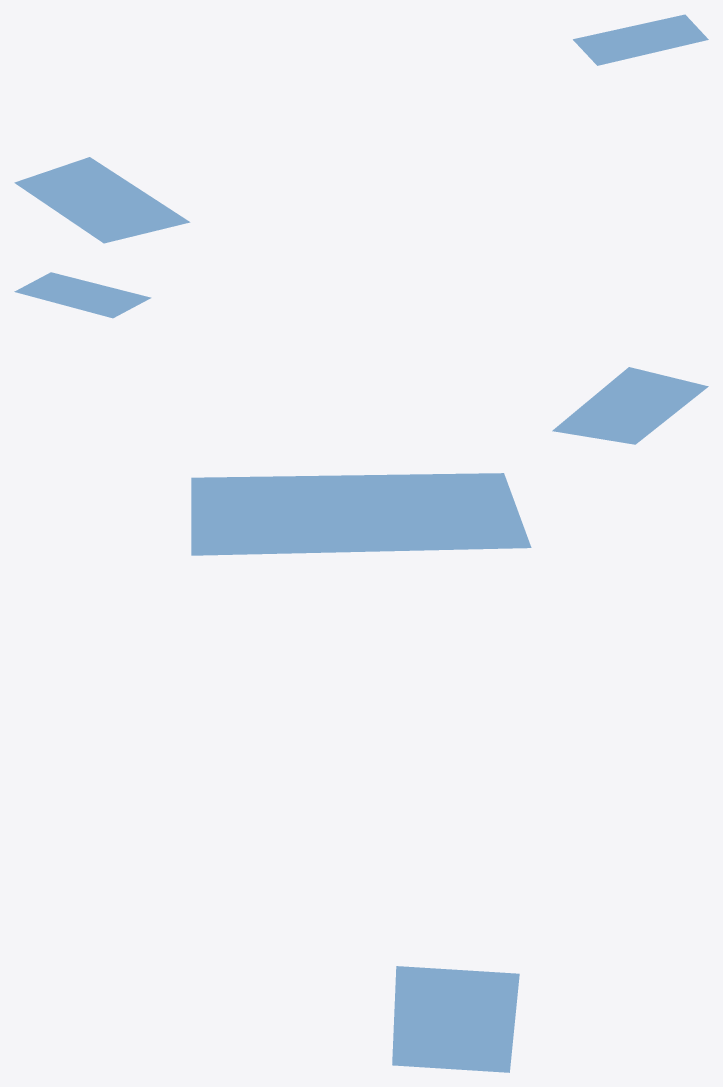
File: water_mesh.fbx
3 views of the same model, one above another, from view 1: azimuth 30°, elevation 25°; view 2: azimuth 150°, elevation 25°; view 3: azimuth 270°, elevation 25° (orthographic). The views are drawn at different scales.
Parts seen in each view (by area): view 1: pond_01_mesh, pond_02_mesh; view 2: pond_01_mesh, pond_02_mesh; view 3: pond_01_mesh, pond_02_mesh.
Boxes of the visible parts, x1=… form: pond_01_mesh: x1=14, y1=157, x2=190, y2=243; pond_02_mesh: x1=573, y1=14, x2=708, y2=65; pond_01_mesh: x1=552, y1=367, x2=708, y2=444; pond_02_mesh: x1=14, y1=272, x2=151, y2=318; pond_01_mesh: x1=191, y1=473, x2=531, y2=555; pond_02_mesh: x1=392, y1=966, x2=519, y2=1072.
Size of what is drawn, in the model's own units: 98319 by 411 by 23363.
